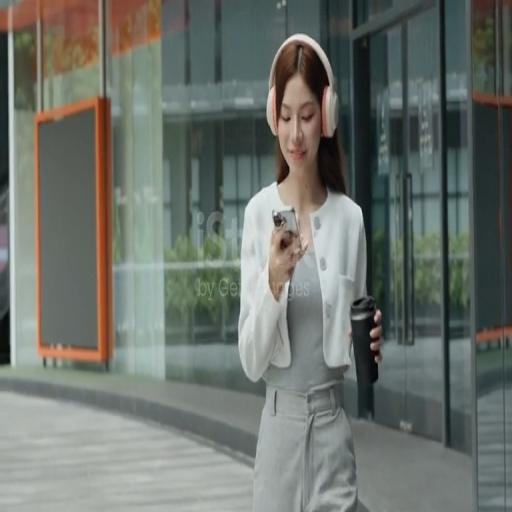earphone: (261, 33, 340, 144)
